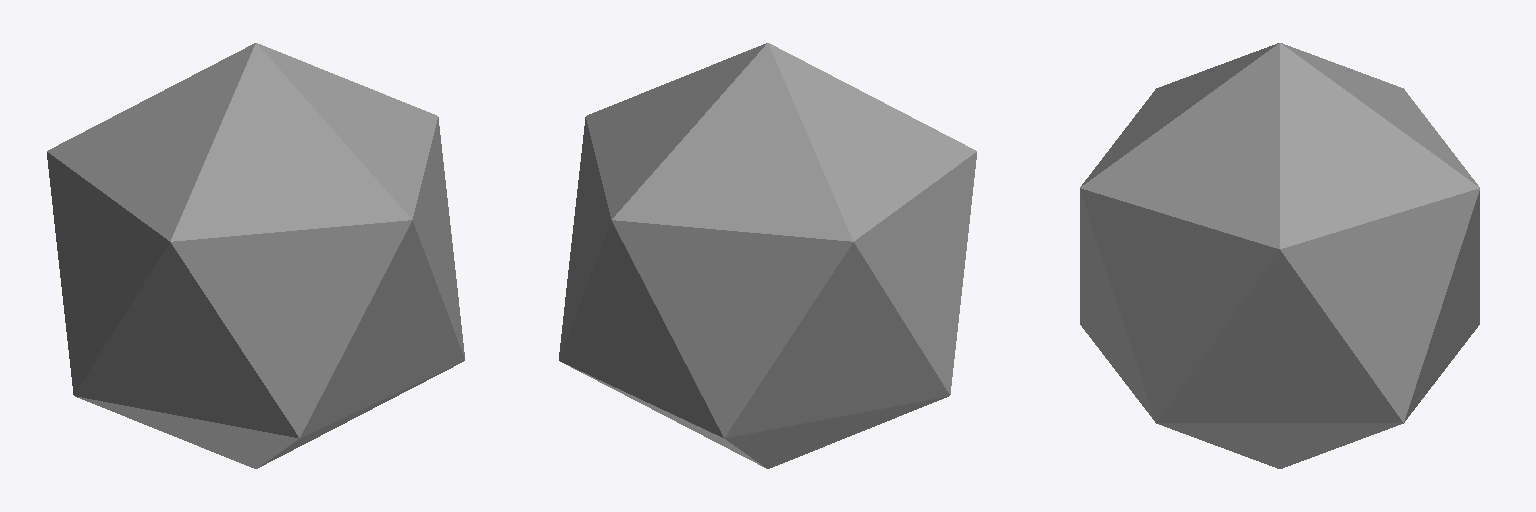
File: outer_sphere.obj
3 renders of one model, left to right at view 1: azimuth 30°, elevation 25°; view 2: azimuth 150°, elevation 25°; view 3: azimuth 270°, elevation 25°, orthographic.
Parts seen in each view (by area): view 1: outer_sphere; view 2: outer_sphere; view 3: outer_sphere.
Boxes of the visible parts, box(x1,y1,x2,y2) form: outer_sphere: box(47, 43, 464, 468); outer_sphere: box(559, 43, 976, 468); outer_sphere: box(1080, 43, 1479, 468).
Size of the model in its own units: 1.79 by 2 by 1.7.